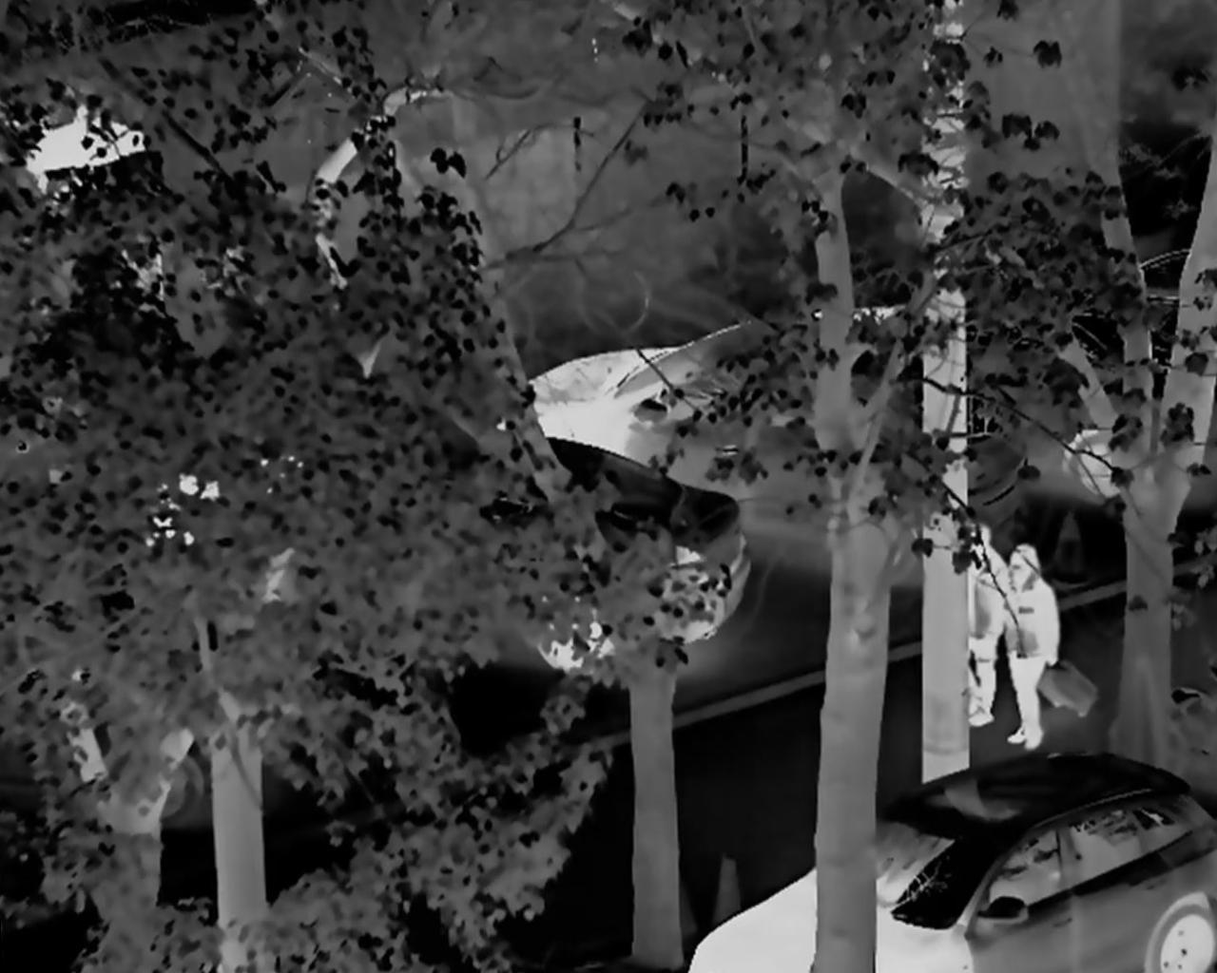person: (998, 542, 1065, 746), (951, 525, 1003, 730)
